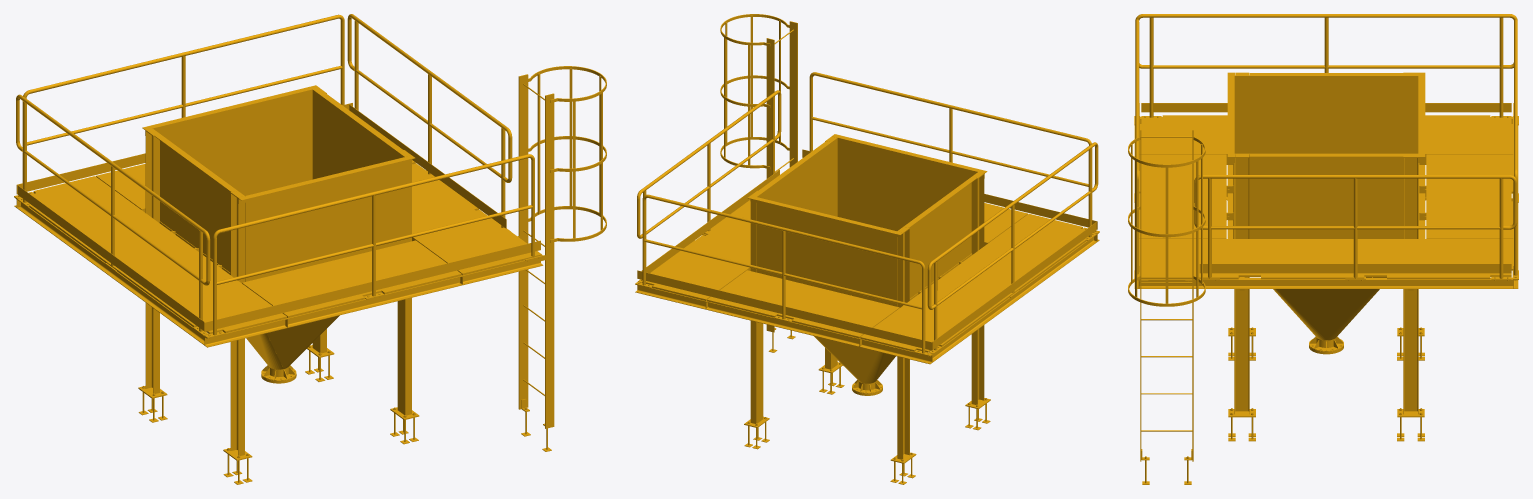
Rendered from hopper.glb.
3 views of the same model, side by side, from view 1: azimuth 30°, elevation 25°; view 2: azimuth 150°, elevation 25°; view 3: azimuth 270°, elevation 25° (orthographic). The views are drawn at different scales.
Parts seen in each view (by area): view 1: Object_783, Object_771, Object_787, Object_780, Object_774, Object_789, Object_785, Object_440, Object_442, Object_134, Object_128, Object_116 (+21 smaller); view 2: Object_787, Object_771, Object_783, Object_777, Object_774, Object_789, Object_785, Object_122, Object_261, Object_128, Object_1207, Object_325 (+23 smaller); view 3: Object_789, Object_774, Object_785, Object_771, Object_777, Object_780, Object_238, Object_116, Object_122, Object_854, Object_1475, Object_1603 (+23 smaller).
Boxes of the visible parts, left/top/right/bottom form: Object_783: left=245, top=157, right=404, bottom=281; Object_771: left=29, top=176, right=286, bottom=333; Object_787: left=153, top=89, right=312, bottom=195; Object_780: left=242, top=240, right=461, bottom=317; Object_774: left=412, top=160, right=541, bottom=275; Object_789: left=153, top=129, right=244, bottom=272; Object_785: left=312, top=89, right=405, bottom=242; Object_440: left=545, top=93, right=554, bottom=428; Object_442: left=518, top=74, right=528, bottom=409; Object_134: left=230, top=192, right=244, bottom=455; Object_128: left=145, top=130, right=159, bottom=393; Object_116: left=397, top=162, right=411, bottom=415; Object_787: left=756, top=197, right=897, bottom=306; Object_771: left=860, top=214, right=1086, bottom=352; Object_783: left=837, top=137, right=977, bottom=230; Object_777: left=707, top=270, right=899, bottom=338; Object_774: left=646, top=200, right=750, bottom=300; Object_789: left=898, top=172, right=977, bottom=298; Object_785: left=757, top=138, right=837, bottom=216; Object_122: left=750, top=201, right=763, bottom=423; Object_261: left=932, top=237, right=1097, bottom=362; Object_128: left=897, top=228, right=909, bottom=459; Object_1207: left=785, top=306, right=932, bottom=350; Object_325: left=708, top=302, right=859, bottom=346; Object_789: left=1234, top=76, right=1418, bottom=153; Object_774: left=1137, top=239, right=1513, bottom=279; Object_785: left=1249, top=160, right=1403, bottom=238; Object_771: left=1139, top=115, right=1513, bottom=155; Object_777: left=1426, top=154, right=1513, bottom=238; Object_780: left=1139, top=154, right=1226, bottom=238; Object_238: left=1139, top=277, right=1513, bottom=288; Object_116: left=1234, top=157, right=1249, bottom=414; Object_122: left=1403, top=157, right=1418, bottom=414; Object_854: left=1276, top=277, right=1386, bottom=340; Object_1475: left=1143, top=14, right=1509, bottom=17; Object_1603: left=1357, top=264, right=1499, bottom=273.
Bounding box in the file's own units: 4611 × 3840 × 3820.
